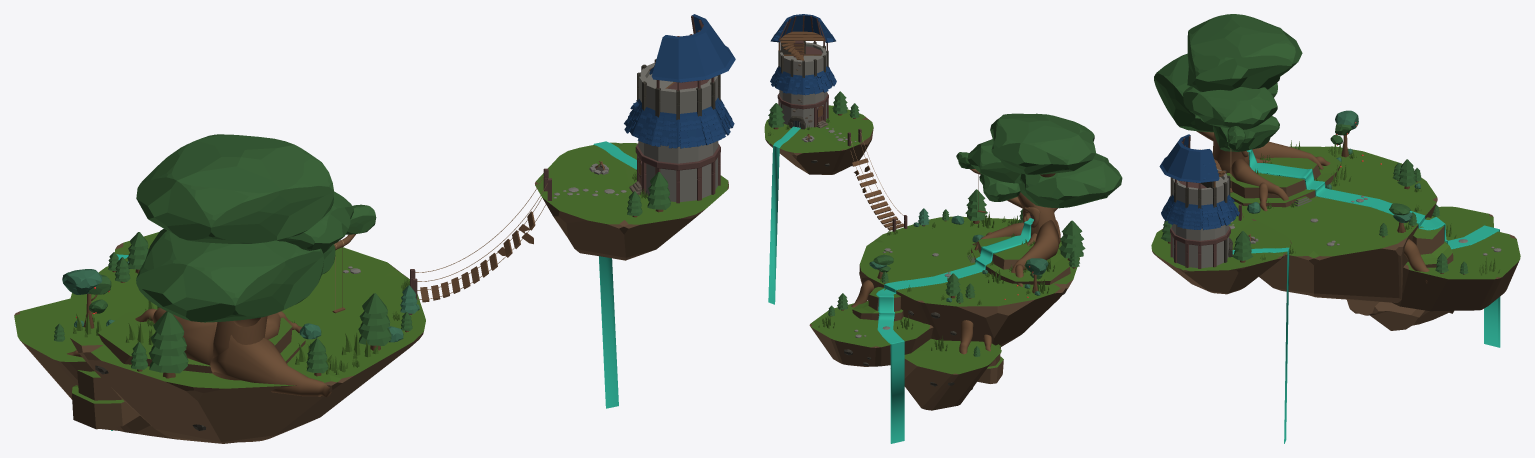
File: floating_island__low_poly_vr.glb
3 views of the same model, side by side, from view 1: azimuth 30°, elevation 25°; view 2: azimuth 150°, elevation 25°; view 3: azimuth 270°, elevation 25° (orthographic). The views are drawn at different scales.
Visible parts, largest first — view 1: Cube, Cube.049, Cube.051, Cube.010, Cylinder.011, Cube.002, Cylinder.021, Cone.235, Cube.005, Cube.004, Cube.047, Cube.048 (+4 smaller); view 2: Cube, Cube.049, Cube.002, Cube.010, Cube.001, Cube.037, Cube.051, Cylinder.011, Cube.005, Cube.047, Cube.048, Cylinder.018 (+8 smaller); view 3: Cube, Cube.049, Cube.001, Cube.010, Cube.037, Cube.048, Cube.005, Cylinder.011, Cube.002, Cube.051, Cone.235, Cube.003 (+8 smaller).
Part boxes in pixels (x1=…): Cube: x1=64, y1=247, x2=425, y2=443; Cube.049: x1=136, y1=134, x2=333, y2=243; Cube.051: x1=136, y1=229, x2=323, y2=322; Cube.010: x1=535, y1=142, x2=728, y2=260; Cylinder.011: x1=635, y1=63, x2=720, y2=201; Cube.002: x1=14, y1=298, x2=178, y2=439; Cylinder.021: x1=210, y1=335, x2=331, y2=397; Cone.235: x1=651, y1=14, x2=735, y2=82; Cube.005: x1=98, y1=308, x2=305, y2=373; Cube.004: x1=72, y1=370, x2=139, y2=429; Cube.047: x1=593, y1=141, x2=636, y2=408; Cube.048: x1=277, y1=191, x2=353, y2=253; Cube: x1=859, y1=216, x2=1079, y2=346; Cube.049: x1=990, y1=113, x2=1095, y2=174; Cube.002: x1=904, y1=338, x2=1001, y2=410; Cube.010: x1=764, y1=105, x2=873, y2=174; Cube.001: x1=809, y1=300, x2=933, y2=366; Cube.037: x1=876, y1=218, x2=1033, y2=443; Cube.051: x1=1019, y1=153, x2=1122, y2=208; Cylinder.011: x1=777, y1=42, x2=828, y2=127; Cube.005: x1=971, y1=236, x2=1070, y2=284; Cube.047: x1=768, y1=126, x2=800, y2=304; Cube.048: x1=967, y1=139, x2=1021, y2=183; Cylinder.018: x1=1011, y1=220, x2=1059, y2=273; Cube: x1=1233, y1=146, x2=1437, y2=302; Cube.049: x1=1187, y1=14, x2=1302, y2=91; Cube.001: x1=1392, y1=224, x2=1520, y2=311; Cube.010: x1=1151, y1=217, x2=1291, y2=294; Cube.037: x1=1247, y1=149, x2=1500, y2=347; Cube.048: x1=1183, y1=86, x2=1277, y2=129; Cube.005: x1=1226, y1=146, x2=1341, y2=207; Cylinder.011: x1=1170, y1=169, x2=1230, y2=268; Cube.002: x1=1347, y1=206, x2=1493, y2=330; Cube.051: x1=1154, y1=53, x2=1277, y2=132; Cone.235: x1=1159, y1=134, x2=1219, y2=182; Cube.003: x1=1408, y1=217, x2=1453, y2=267.
Size of what is drawn, in the model's own units: 43.82 by 33.65 by 34.14.
